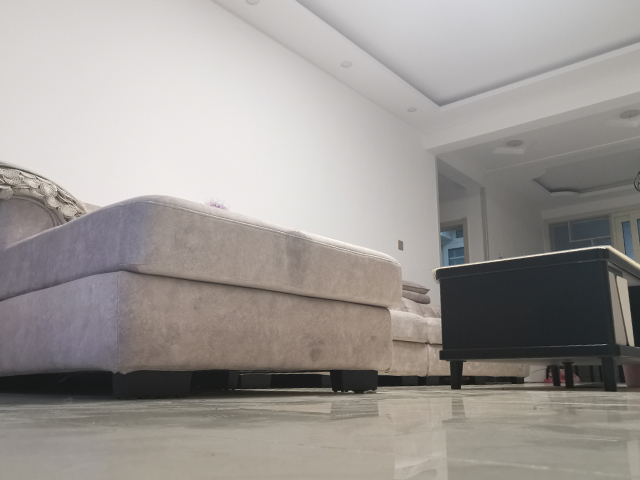sf: (1, 161, 444, 403)
table: (429, 245, 640, 392)
